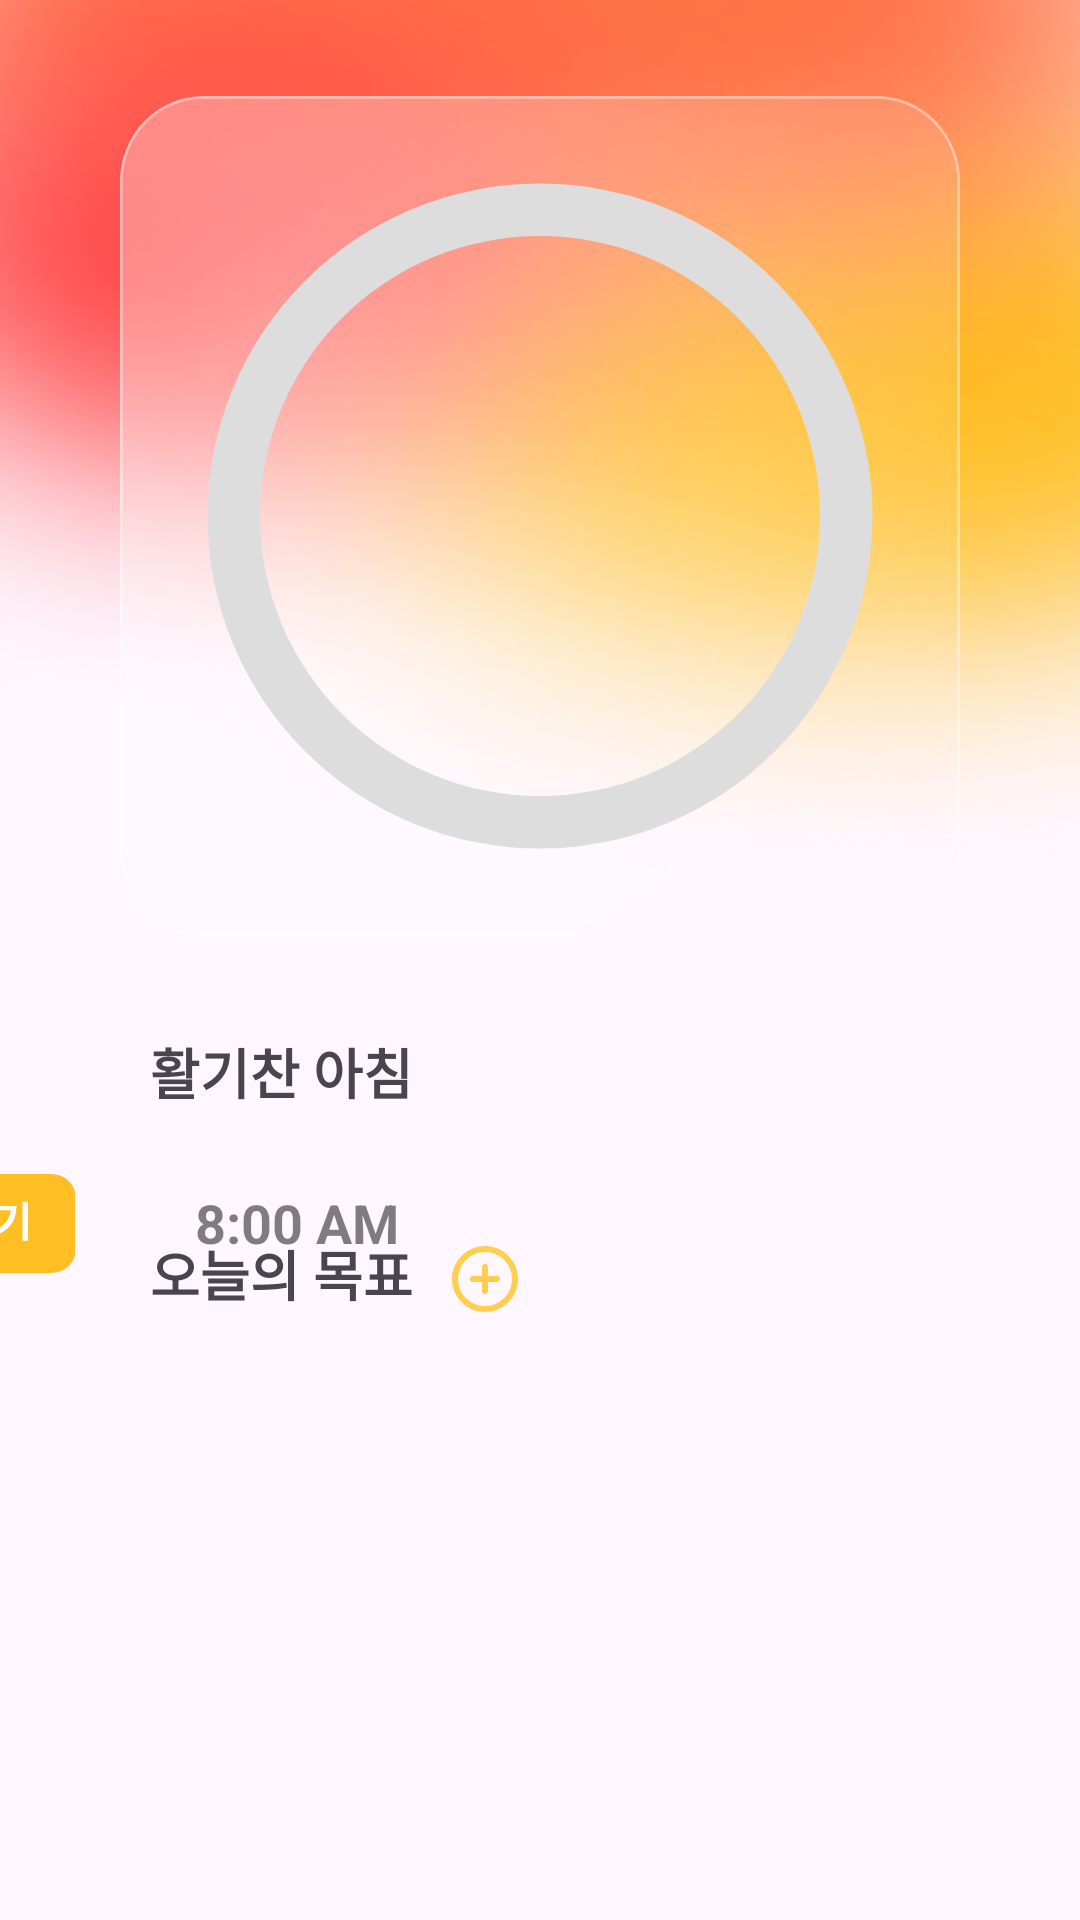

Icon bounding boxes for this 1080w x 1920h phone screenshot, format {"x1": x1, "y1": y1, "x2": x2, "y2": y2}:
plus: {"x1": 452, "y1": 1246, "x2": 518, "y2": 1312}
